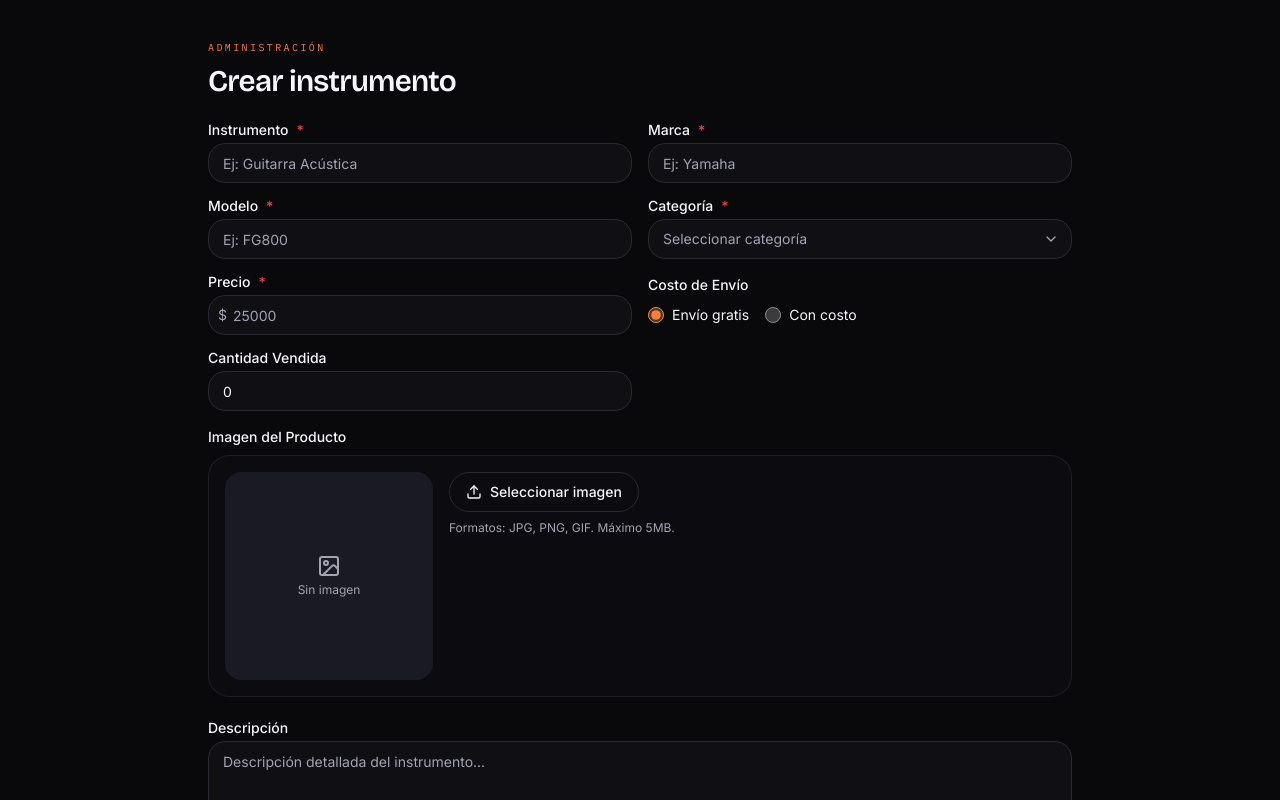
Scenario: InstrumentoForm (crear) › rechaza precios no positivos
The image size is (1280, 800).
Type "Guitarra" into the field labelled "Instrumento *" at (420, 163), box x1=208 y1=143 x2=632 y2=183
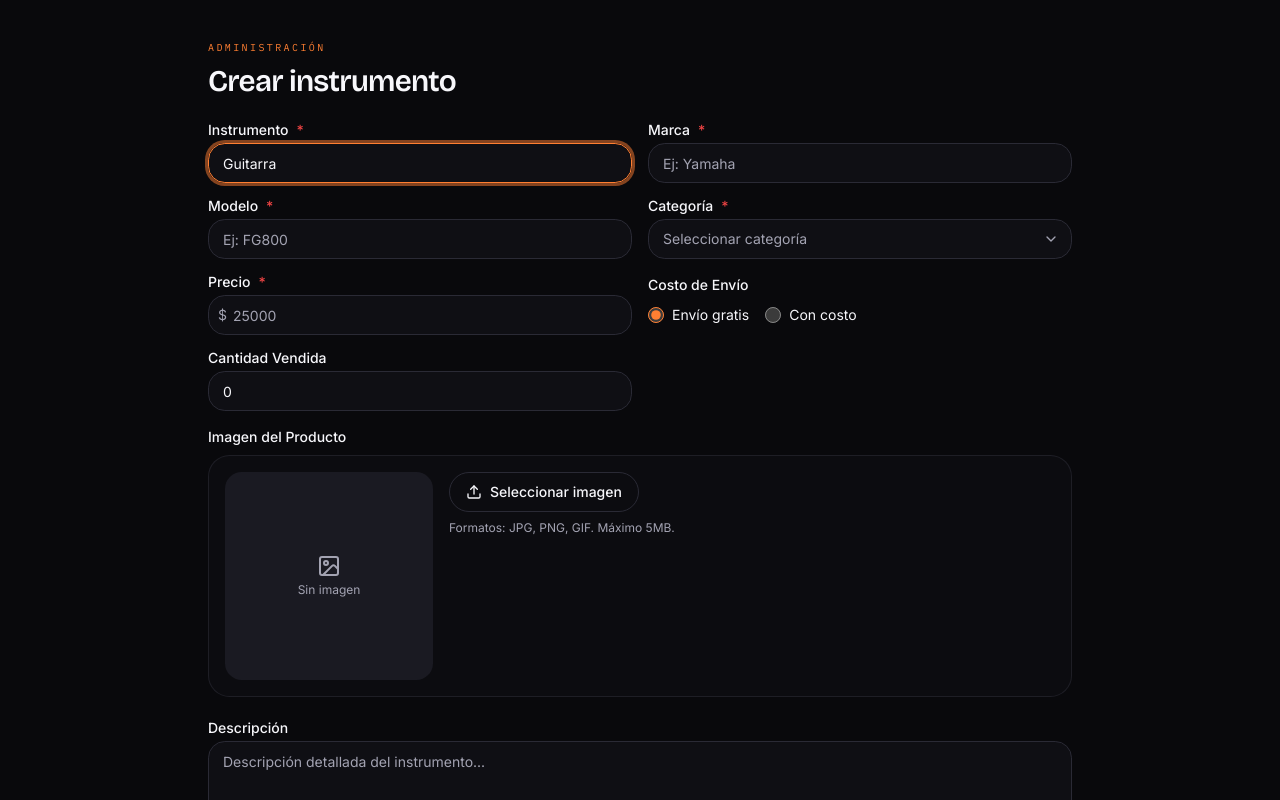
Type "Yamaha" into the field labelled "Marca *" at (860, 163), box x1=648 y1=143 x2=1072 y2=183
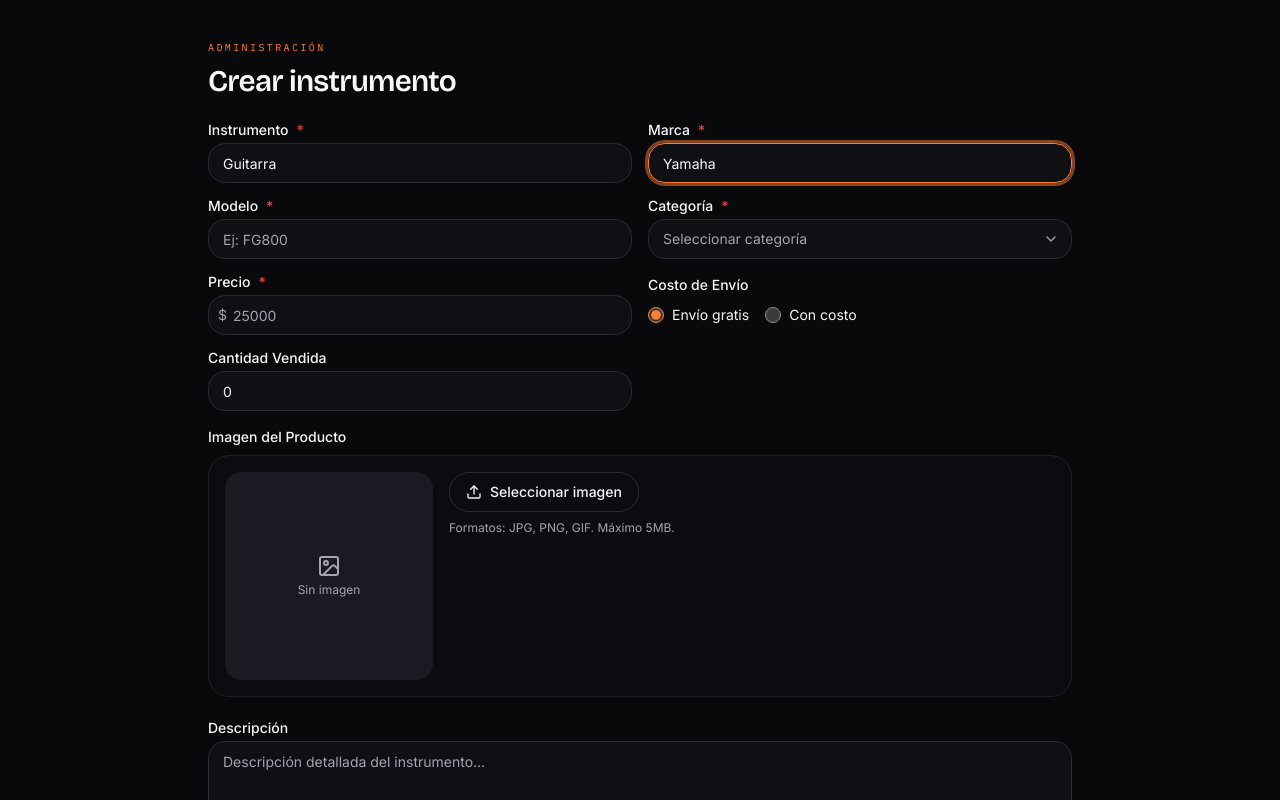
Type "FG800" into the field labelled "Modelo *" at (420, 239), box x1=208 y1=219 x2=632 y2=259
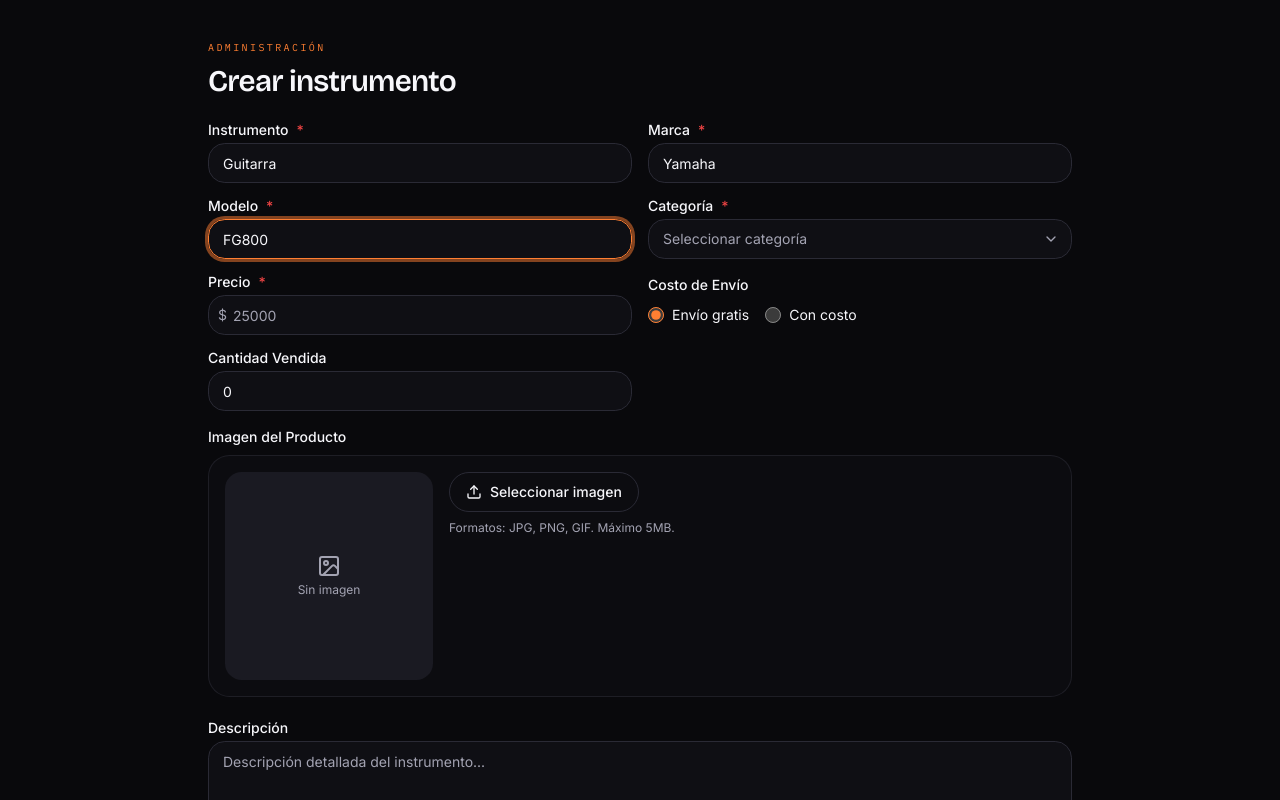
Type "0" into the number field labelled "Precio *" at (420, 315), box x1=208 y1=295 x2=632 y2=335
(page scrolled)
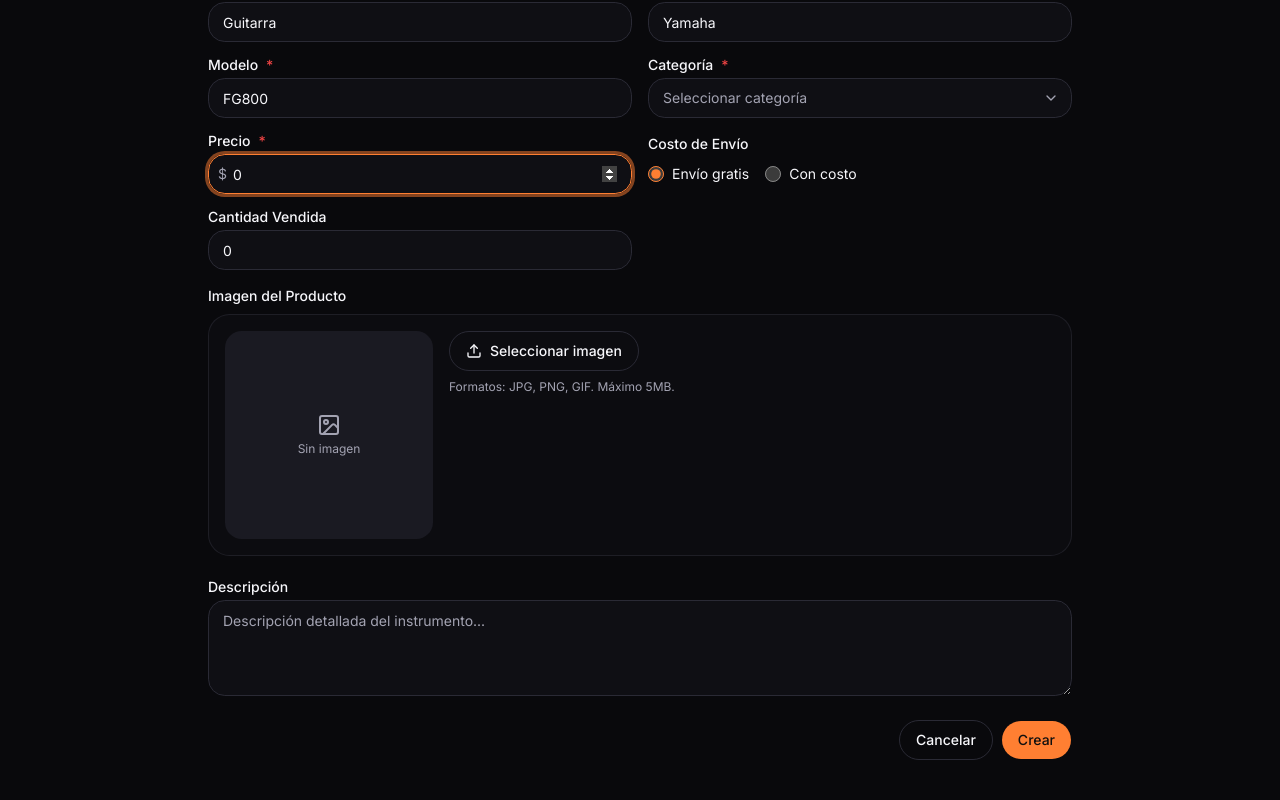
Click the button "Crear" at (1036, 740), box x1=1001 y1=720 x2=1072 y2=760
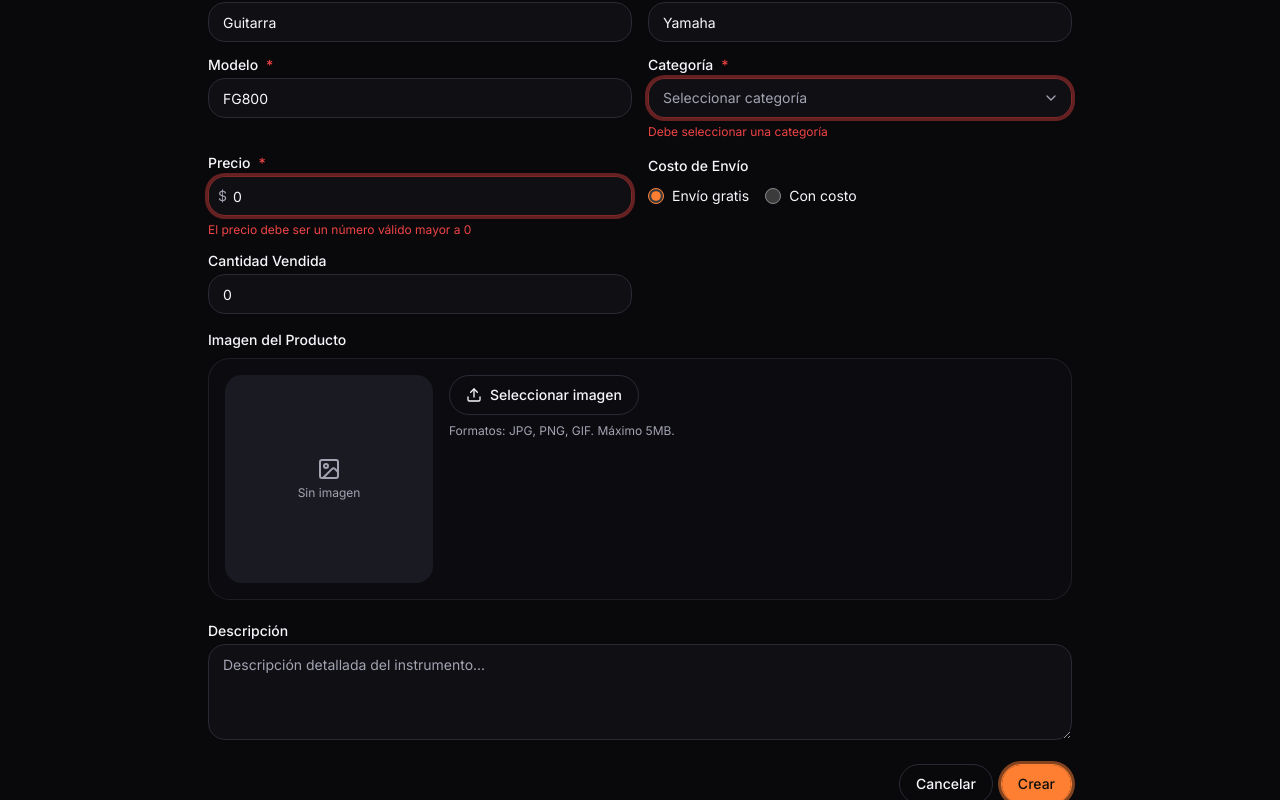
Expected: the text "El precio debe ser un número válido mayor a 0" is shown, x1=208 y1=222 x2=471 y2=237
